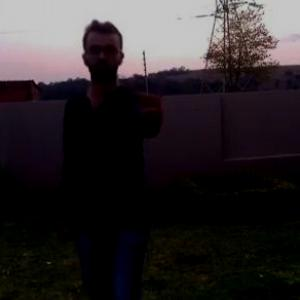takeoff-hand: (126, 82, 175, 126)
